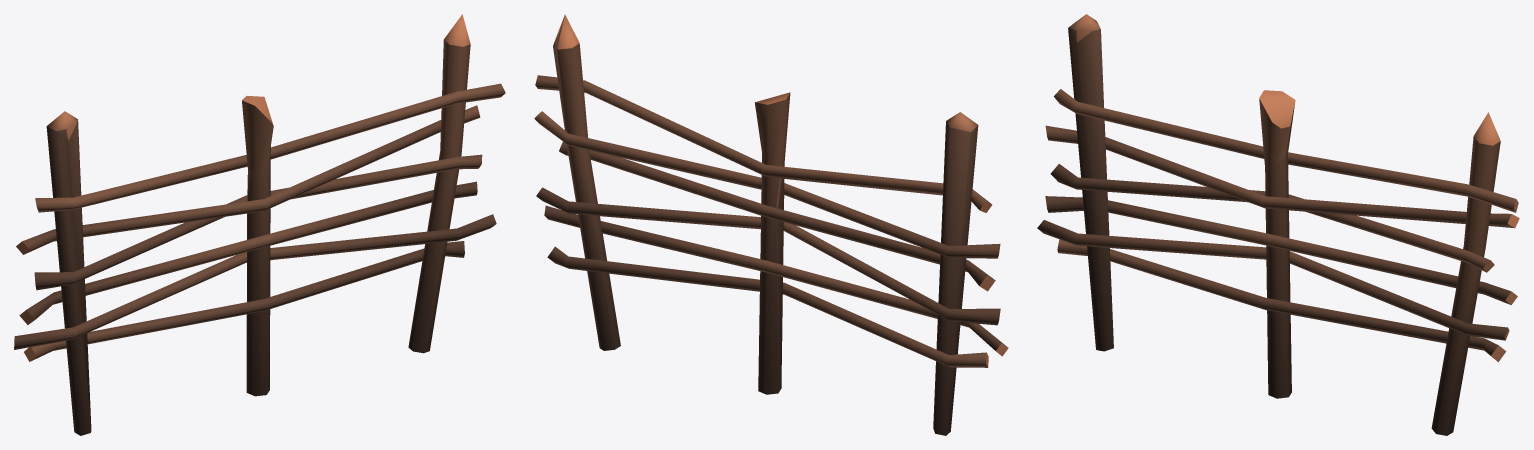
The model's file is Fence_3C.FBX.
3 renders of one model, left to right at view 1: azimuth 30°, elevation 25°; view 2: azimuth 150°, elevation 25°; view 3: azimuth 330°, elevation 25°, orthographic.
Visible parts, largest first — view 1: Fence_3C; view 2: Fence_3C; view 3: Fence_3C.
Boxes of the visible parts, bbox=[...] form: Fence_3C: bbox=[14, 14, 505, 435]; Fence_3C: bbox=[534, 14, 1008, 435]; Fence_3C: bbox=[1037, 14, 1519, 435].
Size of the model in its own units: 198 by 129 by 20.87.
